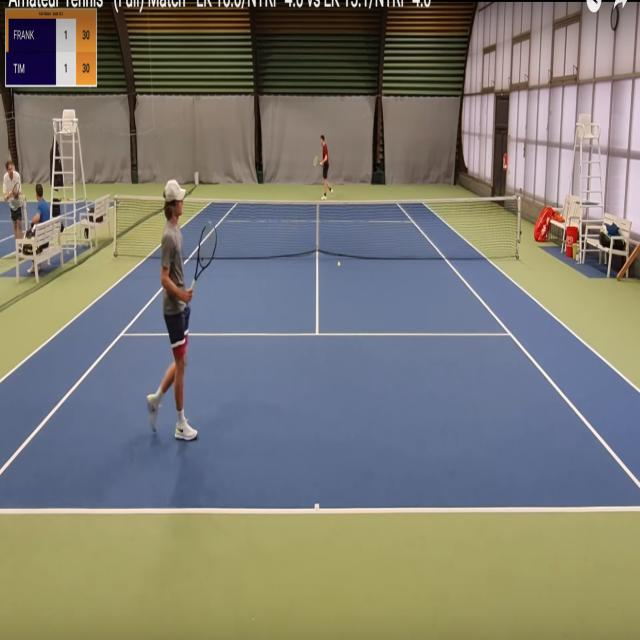ball: (337, 260, 341, 268)
